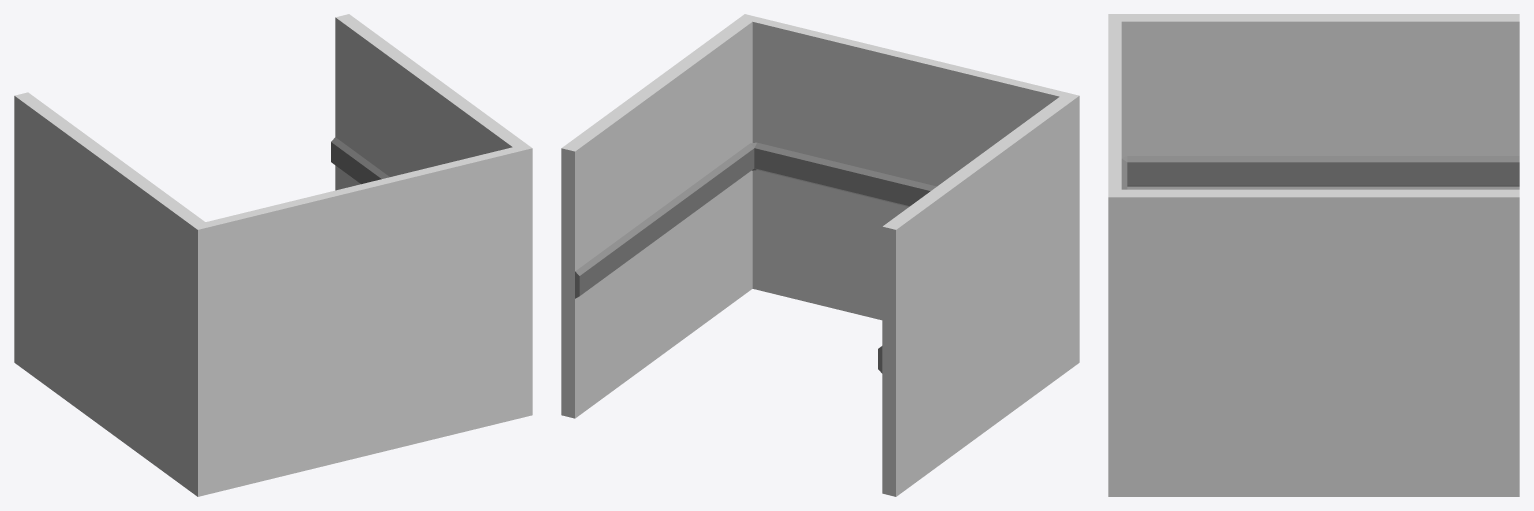
The model's file is Counter_3_B.obj.
The picture shows the model from 3 angles, left to right: view 1: azimuth 30°, elevation 25°; view 2: azimuth 150°, elevation 25°; view 3: azimuth 270°, elevation 25°; orthographic projection. The views are drawn at different scales.
Visible parts, largest first — view 1: Counter_3_B; view 2: Counter_3_B; view 3: Counter_3_B.
Boxes of the visible parts, x1,y1,x2,y2 form: Counter_3_B: (14, 14, 532, 496); Counter_3_B: (561, 14, 1079, 496); Counter_3_B: (1108, 14, 1519, 496).
Size of the model in its own units: 1 by 0.7623 by 0.949.
